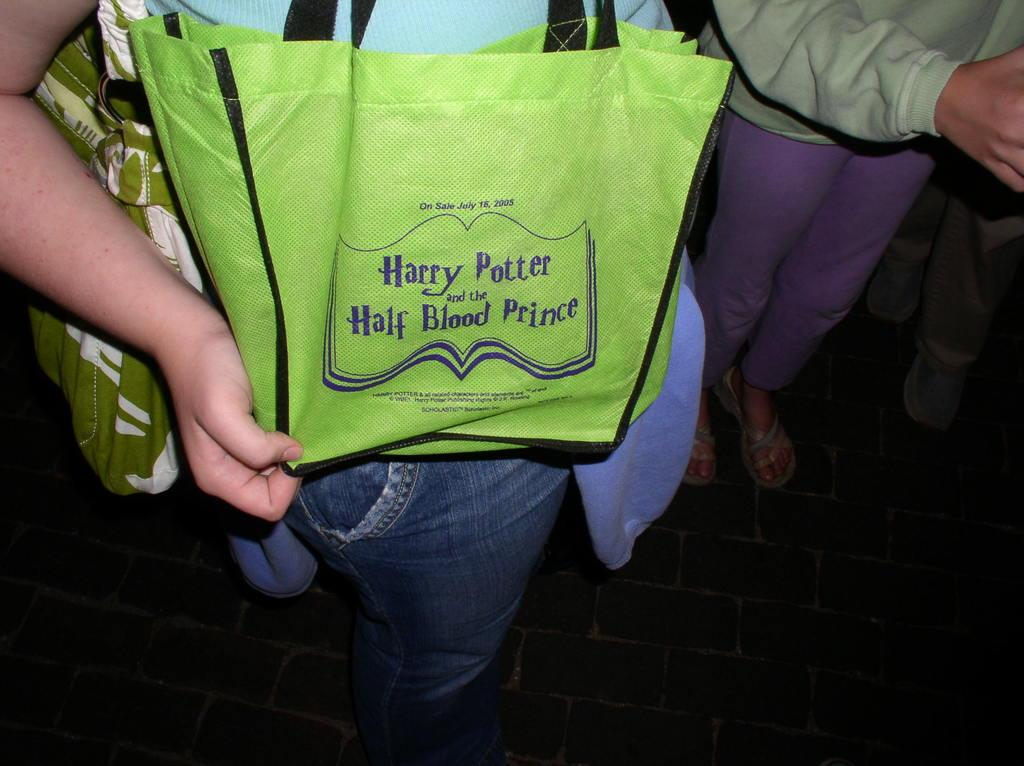Luggage-and-bags: (141, 0, 777, 511), (13, 26, 211, 500)
